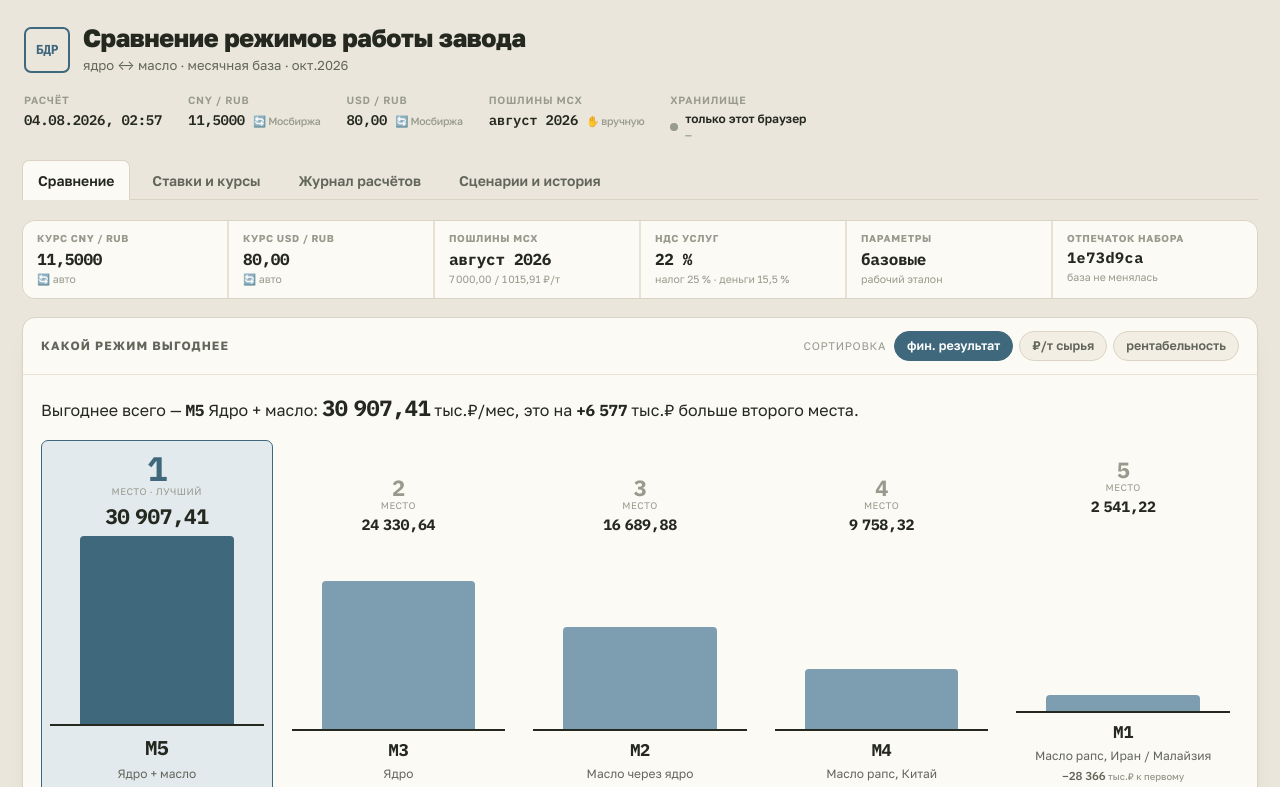
Test case: Блокировки видны на экране и называют параметр › просроченный месяц ставок останавливает M2 и M5, а M3 считает
Click the button "Ставки и курсы" at point(206, 180), box [136,160,277,200]
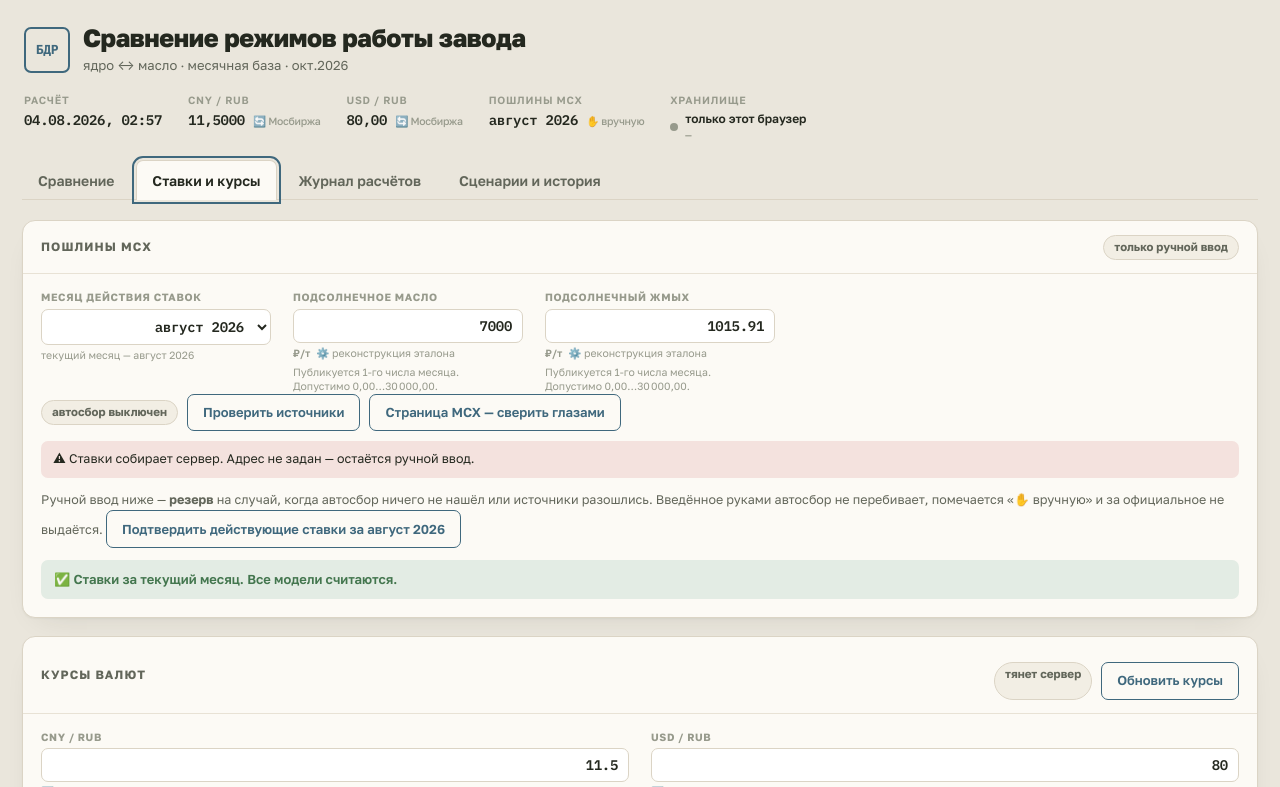
Select "июль 2026" in the dropdown labelled "месяц действия ставок текущий месяц — август 2026" at point(156, 327), box [41,309,271,345]
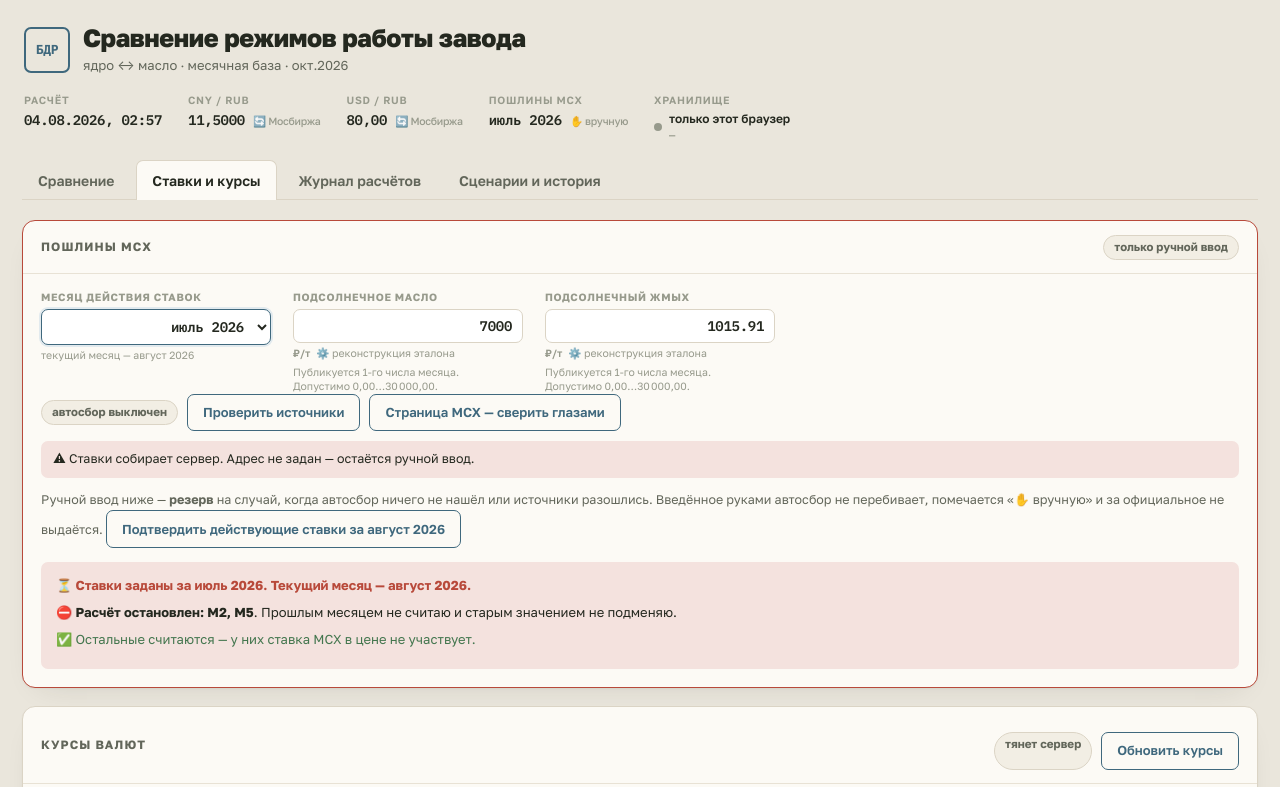
Expected: the button "Расчёт остановлен" does not show "M3"
Now the text "Расчёт остановлен: M2, M5" is shown, box [76,604,254,620]
